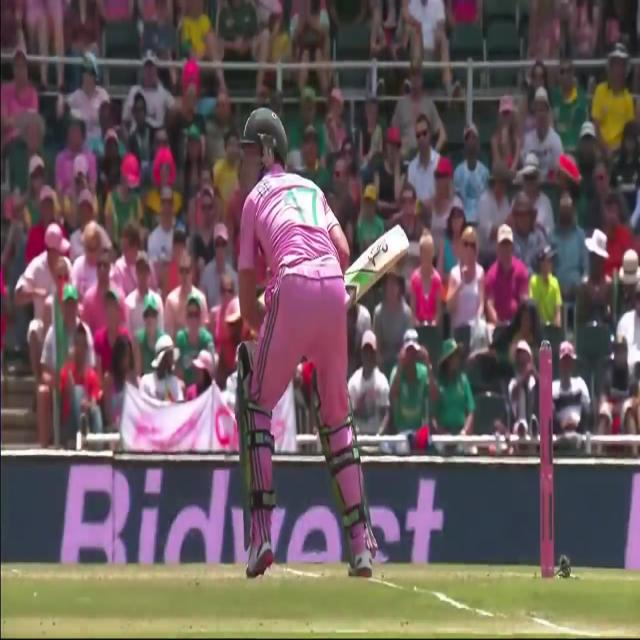Ball: (230, 107, 379, 577)
